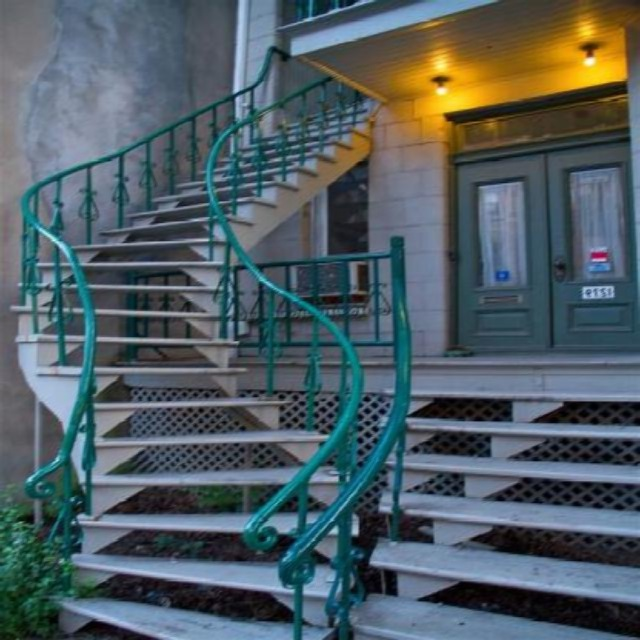stair: (6, 98, 372, 640), (378, 354, 640, 640)
